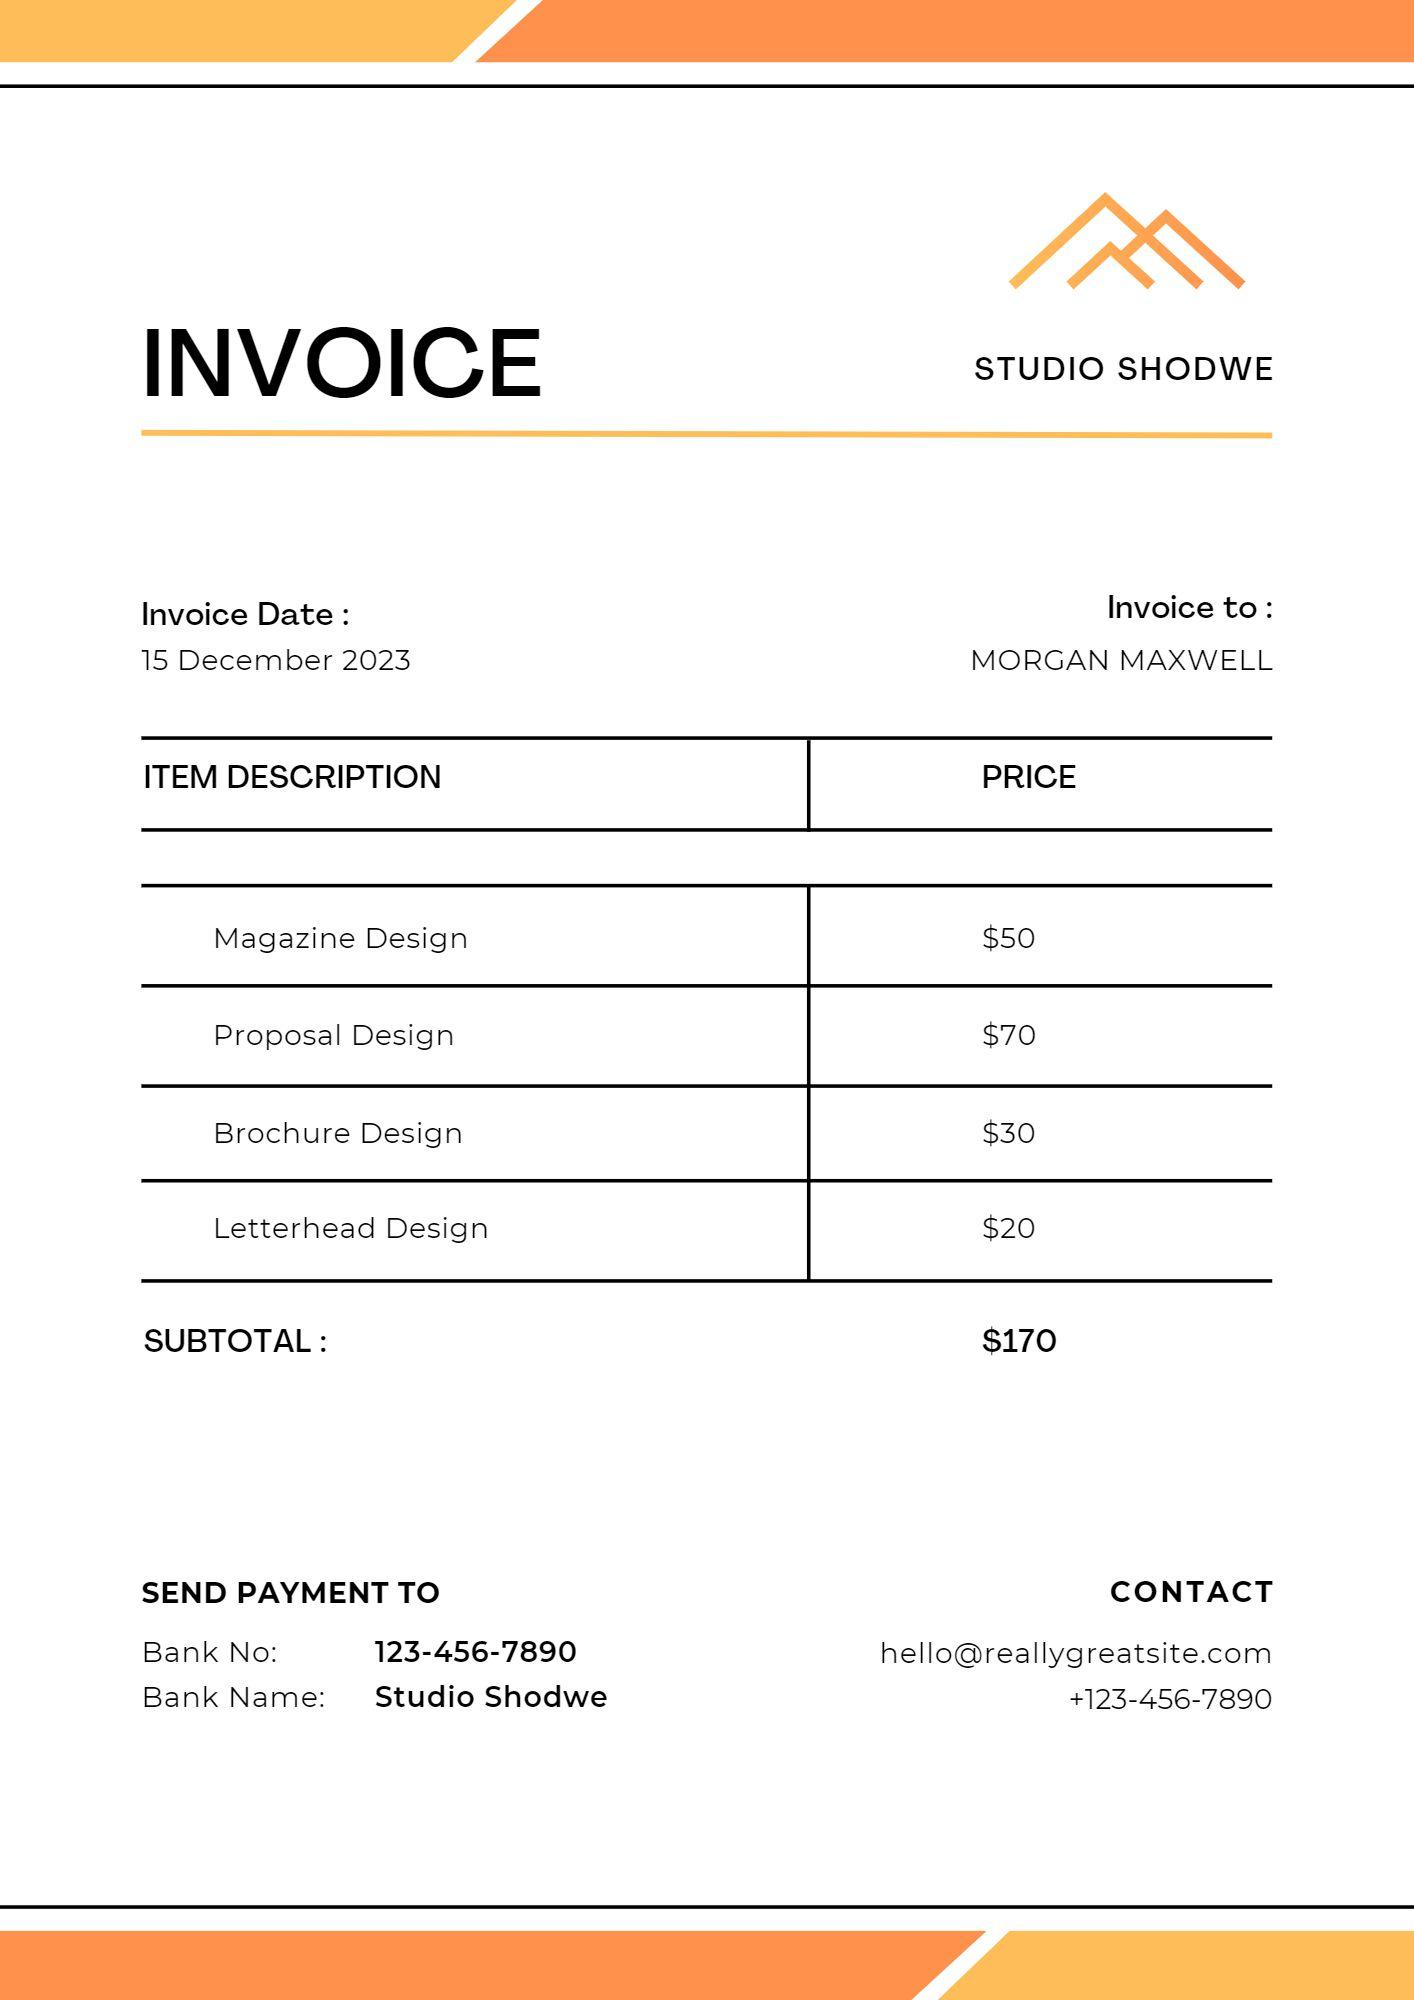ROI: (139, 730, 1272, 1295)
